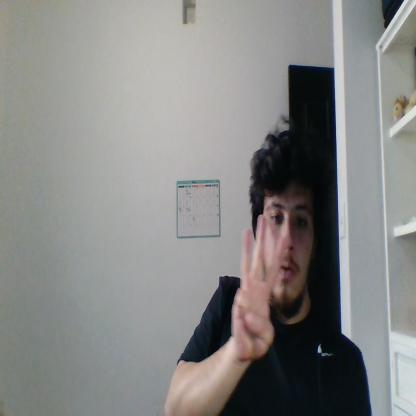W: (232, 214, 284, 358)
